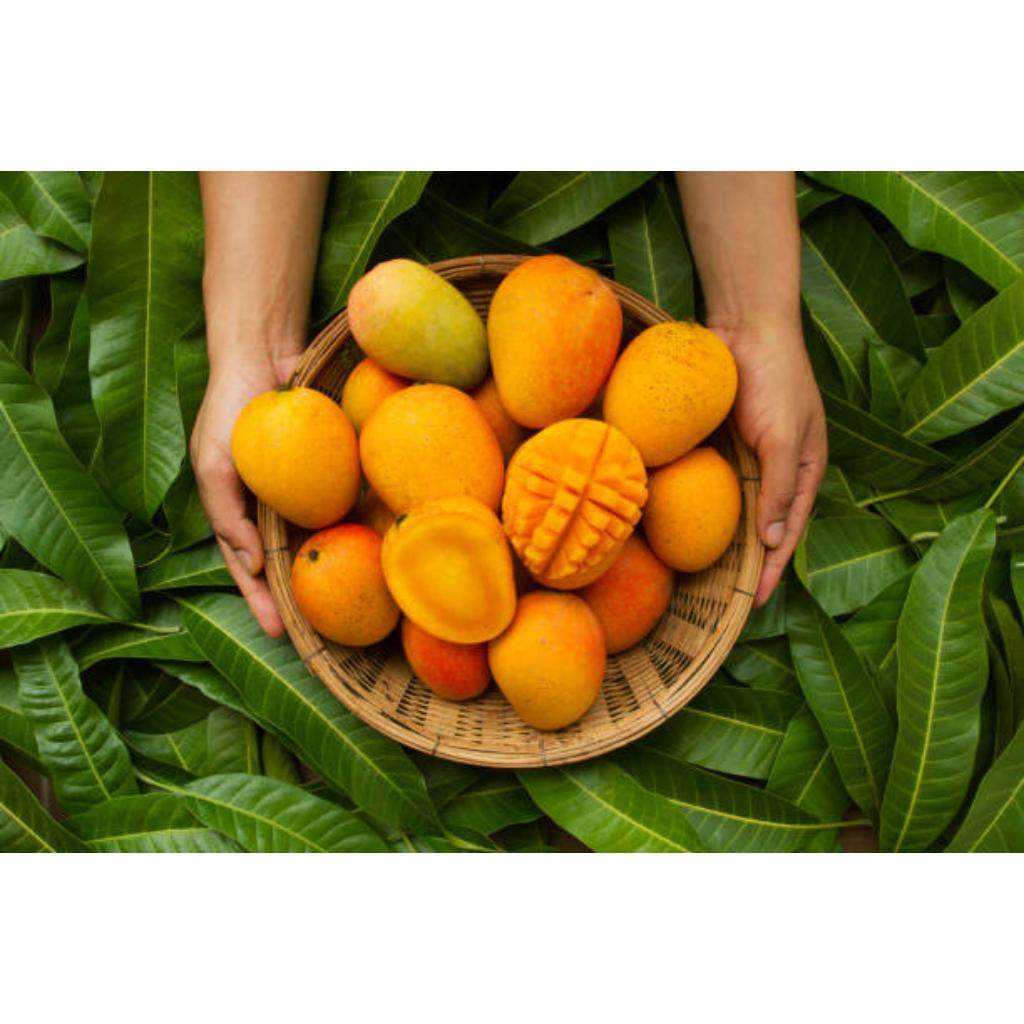mango: (502, 419, 648, 588), (488, 255, 622, 428), (382, 495, 516, 645), (604, 323, 738, 467), (362, 383, 504, 514), (350, 259, 488, 388), (232, 391, 360, 529), (488, 591, 606, 731), (292, 525, 400, 647), (642, 447, 742, 572), (578, 533, 674, 654)
